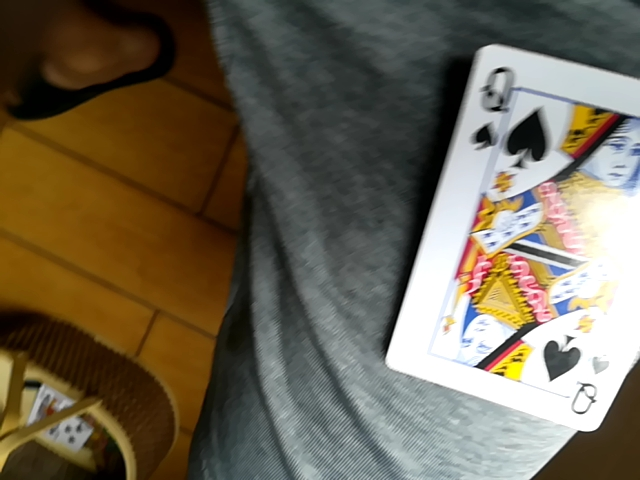ht q: (378, 54, 640, 437)
